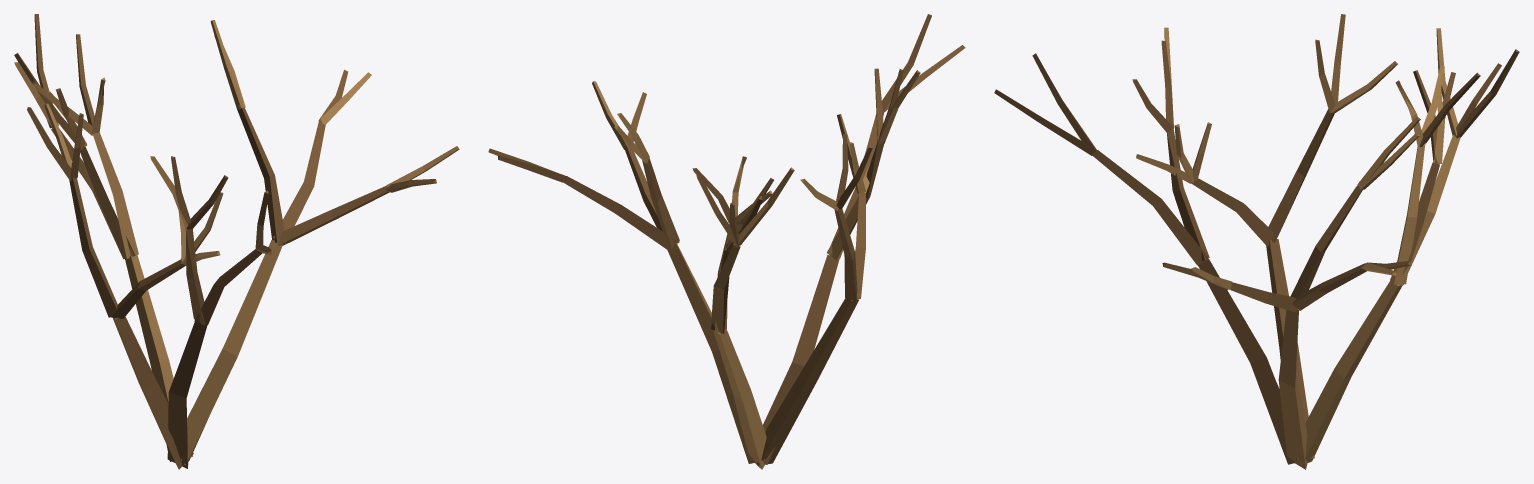
File: dead_shrub.fbx
3 views of the same model, side by side, from view 1: azimuth 30°, elevation 25°; view 2: azimuth 150°, elevation 25°; view 3: azimuth 270°, elevation 25° (orthographic). The views are drawn at different scales.
Visible parts, largest first — view 1: dead_shrub; view 2: dead_shrub; view 3: dead_shrub.
Part boxes in pixels (x1=…): dead_shrub: x1=14, y1=14, x2=459, y2=469; dead_shrub: x1=488, y1=14, x2=965, y2=469; dead_shrub: x1=994, y1=14, x2=1519, y2=469.
Size of the model in its own units: 37.06 by 36.85 by 44.46.
1 material, 1 textured.
